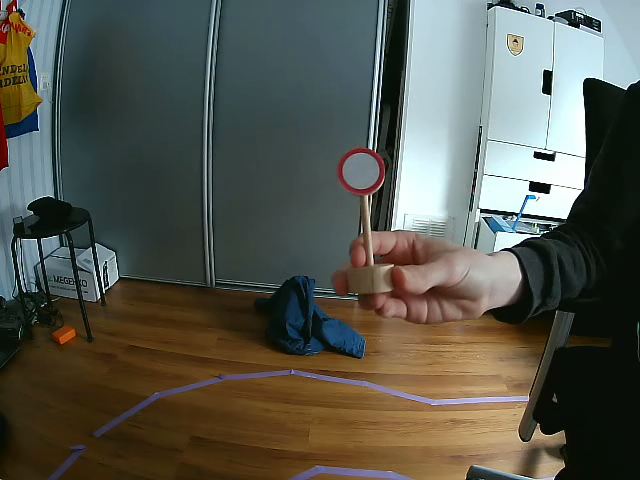wegdicht: (340, 147, 384, 195)
